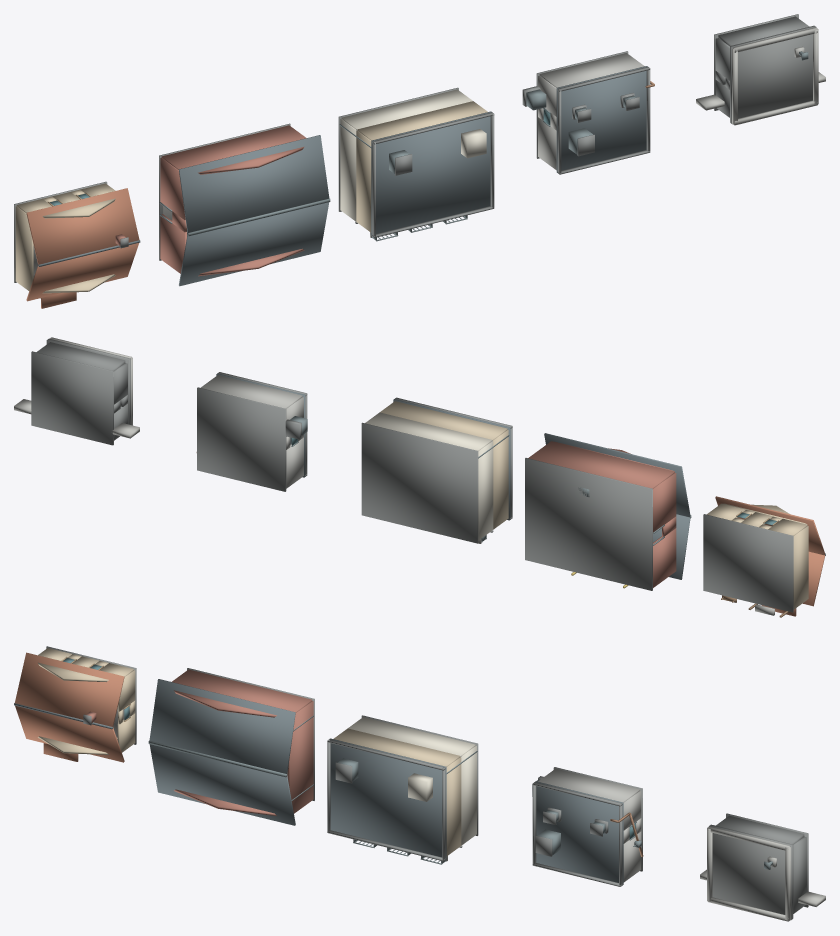
File: Tactical_FPS_Additional_Buildings.glb
3 renders of one model, top to bottom at view 1: azimuth 30°, elevation 25°; view 2: azimuth 150°, elevation 25°; view 3: azimuth 330°, elevation 25°, orthographic. The views are drawn at different scales.
Visible parts, largest first — view 1: Apartment_E_Roof_Slab, Workshop_D_Roof_Right, Workshop_D_Roof_Left, PumpStation_F_Roof_Slab, Bunker_G_Armored_Roof, Farmhouse_C_Roof_Slope_S, Farmhouse_C_Roof_Slope_N, Workshop_D_Rear_Wall, Apartment_E_Ground_Back, Apartment_E_Upper_Back, PumpStation_F_Rear_Wall, Apartment_E_Ground_Left (+13 smaller); view 2: Workshop_D_Foundation, Apartment_E_Foundation, PumpStation_F_Foundation, Farmhouse_C_Foundation, Bunker_G_Foundation, Workshop_D_Rear_Wall, Apartment_E_Upper_Back, Apartment_E_Ground_Back, PumpStation_F_Rear_Wall, Workshop_D_Roof_Right, Apartment_E_Ground_Left, Apartment_E_Upper_Left (+10 smaller); view 3: Apartment_E_Roof_Slab, Workshop_D_Roof_Right, Workshop_D_Roof_Left, PumpStation_F_Roof_Slab, Bunker_G_Armored_Roof, Farmhouse_C_Roof_Slope_S, Farmhouse_C_Roof_Slope_N, Workshop_D_Right_Wall, Workshop_D_Rear_Wall, Apartment_E_Ground_Back, Apartment_E_Upper_Back, PumpStation_F_Rear_Wall (+13 smaller).
Boxes of the visible parts, bbox=[...] form: Apartment_E_Roof_Slab: bbox=[371, 111, 491, 235]; Workshop_D_Roof_Right: bbox=[178, 135, 329, 232]; Workshop_D_Roof_Left: bbox=[179, 202, 329, 286]; PumpStation_F_Roof_Slab: bbox=[556, 66, 647, 172]; Bunker_G_Armored_Roof: bbox=[730, 25, 816, 124]; Farmhouse_C_Roof_Slope_S: bbox=[26, 188, 139, 264]; Farmhouse_C_Roof_Slope_N: bbox=[26, 243, 138, 301]; Workshop_D_Rear_Wall: bbox=[161, 125, 306, 169]; Apartment_E_Ground_Back: bbox=[341, 89, 472, 129]; Apartment_E_Upper_Back: bbox=[357, 101, 487, 140]; PumpStation_F_Rear_Wall: bbox=[539, 53, 644, 87]; Apartment_E_Ground_Left: bbox=[340, 119, 356, 221]; Workshop_D_Foundation: bbox=[525, 458, 652, 590]; Apartment_E_Foundation: bbox=[361, 422, 478, 543]; PumpStation_F_Foundation: bbox=[197, 387, 286, 491]; Farmhouse_C_Foundation: bbox=[703, 514, 793, 612]; Bunker_G_Foundation: bbox=[31, 351, 113, 445]; Workshop_D_Rear_Wall: bbox=[528, 441, 674, 488]; Apartment_E_Upper_Back: bbox=[380, 401, 507, 440]; Apartment_E_Ground_Back: bbox=[365, 412, 492, 450]; PumpStation_F_Rear_Wall: bbox=[200, 375, 302, 408]; Workshop_D_Roof_Right: bbox=[544, 433, 690, 517]; Apartment_E_Ground_Left: bbox=[478, 441, 493, 540]; Apartment_E_Upper_Left: bbox=[493, 430, 508, 529]; Apartment_E_Roof_Slab: bbox=[329, 738, 446, 859]; Workshop_D_Roof_Right: bbox=[149, 679, 295, 774]; Workshop_D_Roof_Left: bbox=[149, 744, 295, 825]; PumpStation_F_Roof_Slab: bbox=[535, 781, 623, 884]; Bunker_G_Armored_Roof: bbox=[709, 824, 793, 920]; Farmhouse_C_Roof_Slope_S: bbox=[15, 652, 124, 726]; Farmhouse_C_Roof_Slope_N: bbox=[15, 705, 124, 762]; Workshop_D_Right_Wall: bbox=[287, 701, 313, 813]; Workshop_D_Rear_Wall: bbox=[172, 669, 312, 712]; Apartment_E_Ground_Back: bbox=[348, 717, 475, 756]; Apartment_E_Upper_Back: bbox=[333, 728, 460, 766]; PumpStation_F_Rear_Wall: bbox=[538, 768, 639, 802].
Size of the model in its own units: 83.42 by 12.1 by 7.58.
